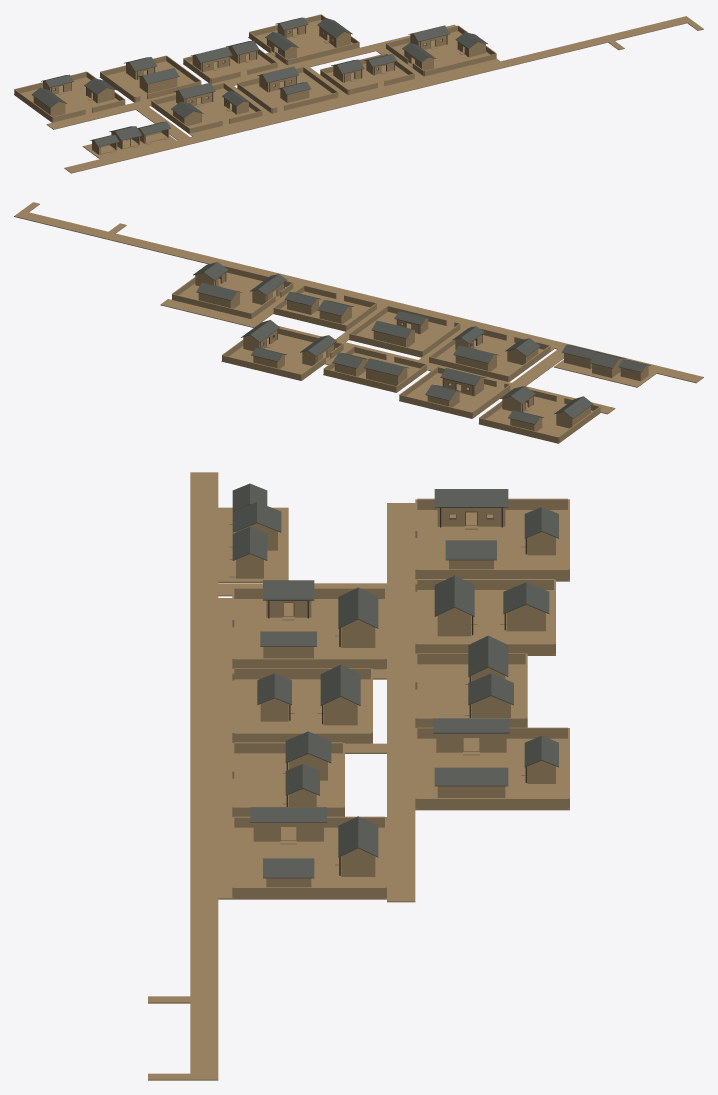
The picture shows the model from 3 angles, top to bottom: view 1: azimuth 30°, elevation 25°; view 2: azimuth 150°, elevation 25°; view 3: azimuth 270°, elevation 25°; orthographic projection. The views are drawn at different scales.
Visible parts, largest first — view 1: A1__GROUND__earth, A1__C04__earth, A1__C05__earth, A1__C08__earth, A1__C01__earth, A1__C02__earth, A1__C06__earth, A1__C03__earth, A1__C07__earth, A1__C04__tile, A1__C08__tile, A1__C01__tile (+7 smaller); view 2: A1__GROUND__earth, A1__C04__earth, A1__C05__earth, A1__C01__earth, A1__C08__earth, A1__C02__earth, A1__C07__earth, A1__C03__earth, A1__C06__earth, A1__C04__tile, A1__C08__tile, A1__C01__tile (+5 smaller); view 3: A1__GROUND__earth, A1__C08__earth, A1__C04__earth, A1__C05__earth, A1__C01__earth, A1__C06__earth, A1__C02__earth, A1__C04__tile, A1__C08__tile, A1__C05__tile, A1__C01__tile, A1__C07__earth (+7 smaller).
Boxes of the visible parts, x1=… form: A1__GROUND__earth: x1=14, y1=16, x2=703, y2=170; A1__C04__earth: x1=386, y1=25, x2=496, y2=76; A1__C05__earth: x1=14, y1=71, x2=125, y2=122; A1__C08__earth: x1=249, y1=14, x2=359, y2=65; A1__C01__earth: x1=151, y1=82, x2=262, y2=133; A1__C02__earth: x1=237, y1=67, x2=338, y2=113; A1__C06__earth: x1=100, y1=55, x2=201, y2=102; A1__C03__earth: x1=320, y1=53, x2=414, y2=94; A1__C07__earth: x1=183, y1=46, x2=277, y2=83; A1__C04__tile: x1=402, y1=25, x2=487, y2=62; A1__C08__tile: x1=265, y1=17, x2=352, y2=51; A1__C01__tile: x1=171, y1=82, x2=250, y2=118; A1__GROUND__earth: x1=14, y1=202, x2=688, y2=443; A1__C04__earth: x1=172, y1=265, x2=293, y2=318; A1__C05__earth: x1=479, y1=389, x2=600, y2=442; A1__C01__earth: x1=429, y1=326, x2=550, y2=381; A1__C08__earth: x1=222, y1=328, x2=343, y2=380; A1__C02__earth: x1=349, y1=305, x2=460, y2=356; A1__C07__earth: x1=323, y1=346, x2=426, y2=391; A1__C03__earth: x1=273, y1=285, x2=376, y2=330; A1__C06__earth: x1=399, y1=367, x2=510, y2=417; A1__C04__tile: x1=193, y1=262, x2=286, y2=300; A1__C08__tile: x1=241, y1=320, x2=336, y2=361; A1__C01__tile: x1=453, y1=326, x2=540, y2=363; A1__GROUND__earth: x1=148, y1=485, x2=569, y2=1080; A1__C08__earth: x1=415, y1=727, x2=569, y2=808; A1__C04__earth: x1=232, y1=816, x2=386, y2=898; A1__C05__earth: x1=415, y1=498, x2=569, y2=580; A1__C01__earth: x1=232, y1=588, x2=386, y2=669; A1__C06__earth: x1=415, y1=579, x2=555, y2=654; A1__C02__earth: x1=232, y1=668, x2=372, y2=743; A1__C04__tile: x1=250, y1=807, x2=378, y2=877; A1__C08__tile: x1=433, y1=718, x2=558, y2=785; A1__C05__tile: x1=434, y1=489, x2=558, y2=559; A1__C01__tile: x1=260, y1=580, x2=378, y2=646; A1__C07__earth: x1=415, y1=653, x2=527, y2=727.
Bounding box in the file's own units: 204 × 5.03 × 60.
